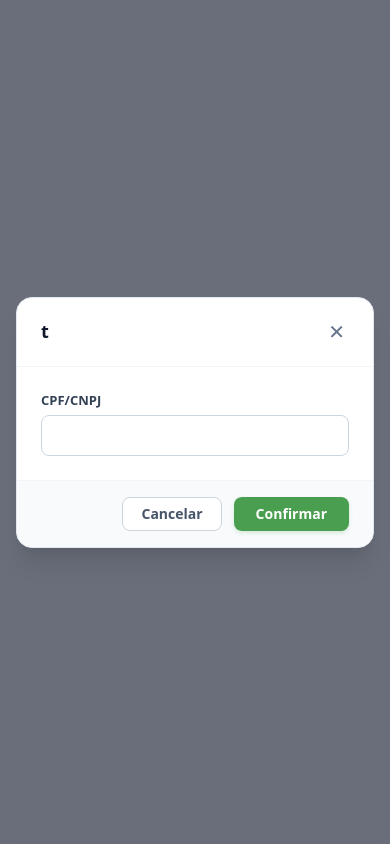
ModalFormulario › aplica máscara, limita dígitos e recusa CNPJ inválido
The width and height of the screenshot is (390, 844).
Type "abc11222333000199999" into the field at (195, 435), box [41,414,349,456]
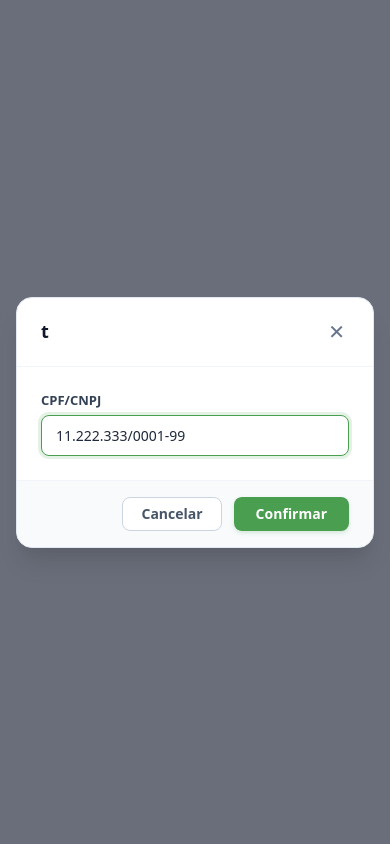
expect the field holds "11.222.333/0001-99": met, box [41,414,349,456]
Click the button "Confirmar" at (291, 514), box [234,496,349,530]
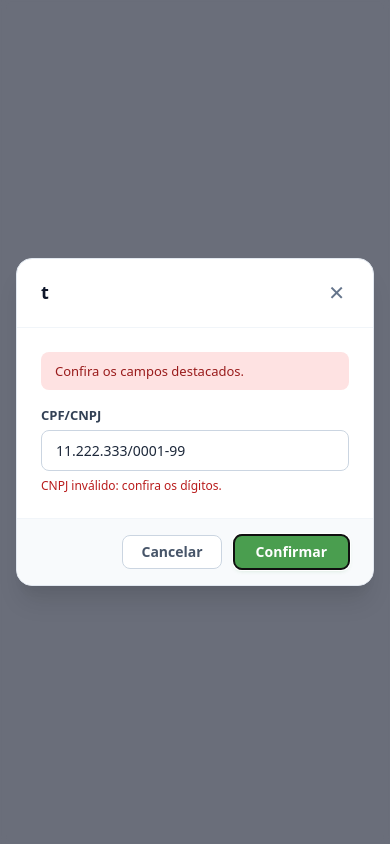
expect the text "CNPJ inválido: confira os dígitos." is shown: met, box [41,477,222,494]
